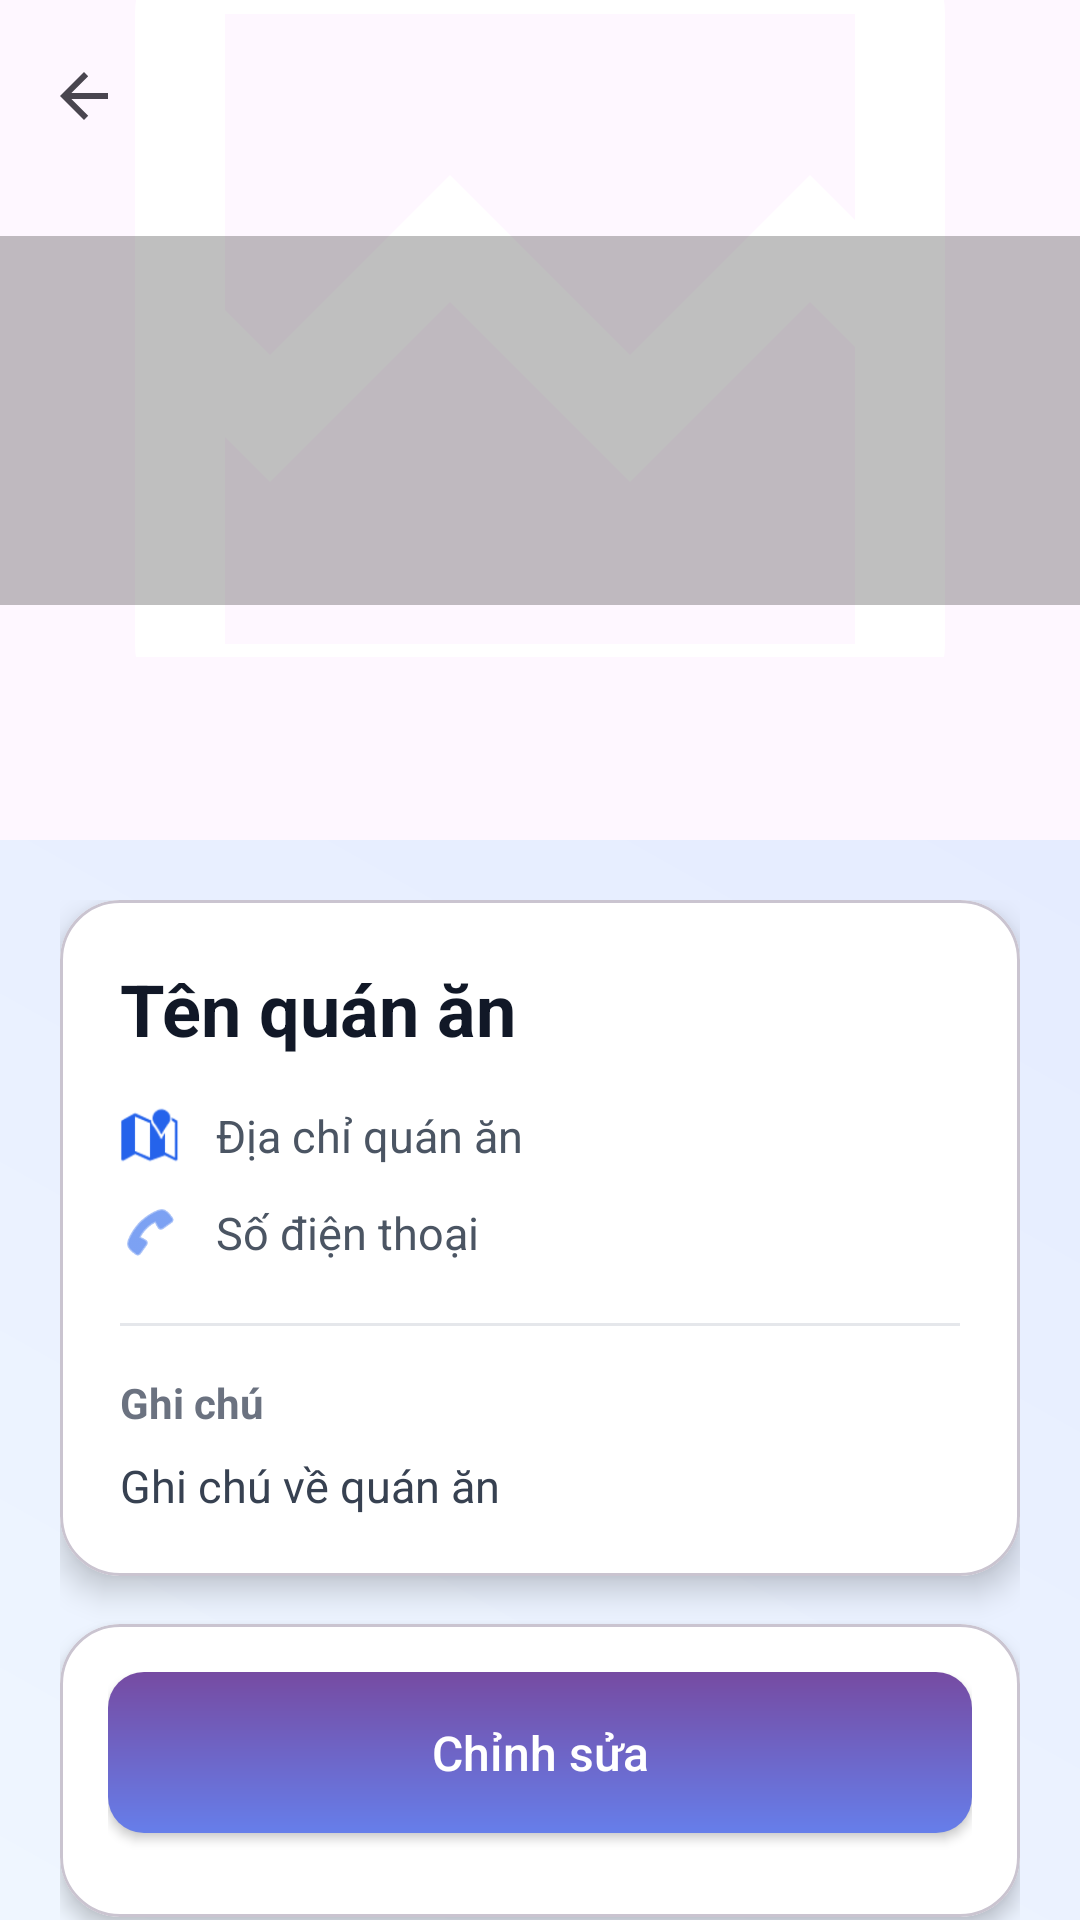

Icon click points for this 1080px×1920px phone screenshot, format (x=x, y=y):
call: (x=150, y=1232)
map: (x=149, y=1134)
